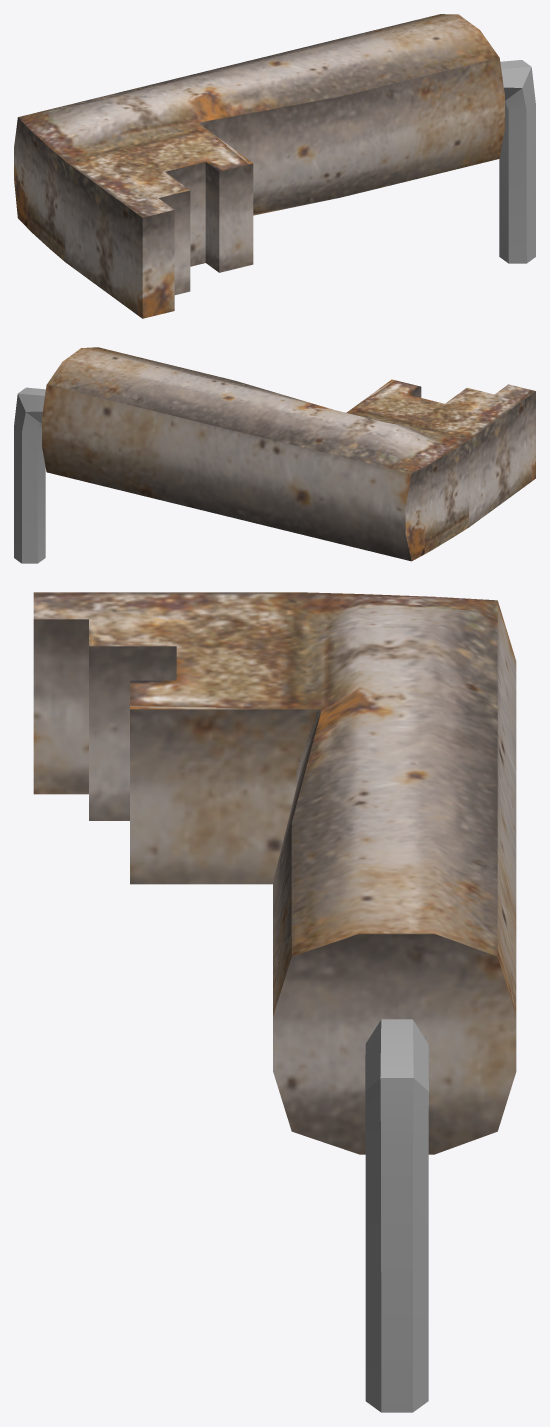
Rendered from KeyLower.fbx.
3 views of the same model, one above another, from view 1: azimuth 30°, elevation 25°; view 2: azimuth 150°, elevation 25°; view 3: azimuth 270°, elevation 25° (orthographic). The views are drawn at different scales.
Parts seen in each view (by area): view 1: KeyLower; view 2: KeyLower; view 3: KeyLower.
Boxes of the visible parts, x1,y1,x2,y2 form: KeyLower: (14,14,535,318); KeyLower: (14,347,535,563); KeyLower: (33,592,516,1412).
Size of the model in its own units: 31.04 by 14.81 by 15.2.
